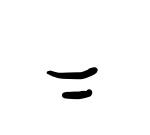eqv: (41, 65, 99, 100)
